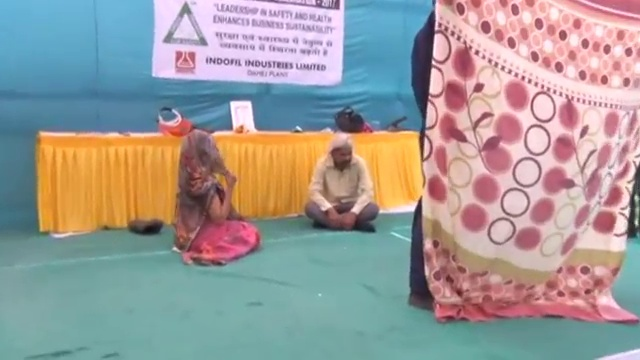helmet_off: (186, 132, 216, 164), (328, 136, 353, 173)
person: (168, 130, 264, 263), (302, 134, 379, 230)
